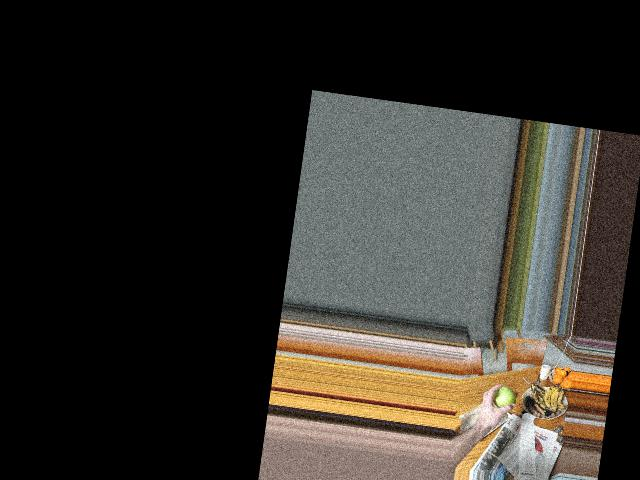apple: (490, 383, 517, 412)
